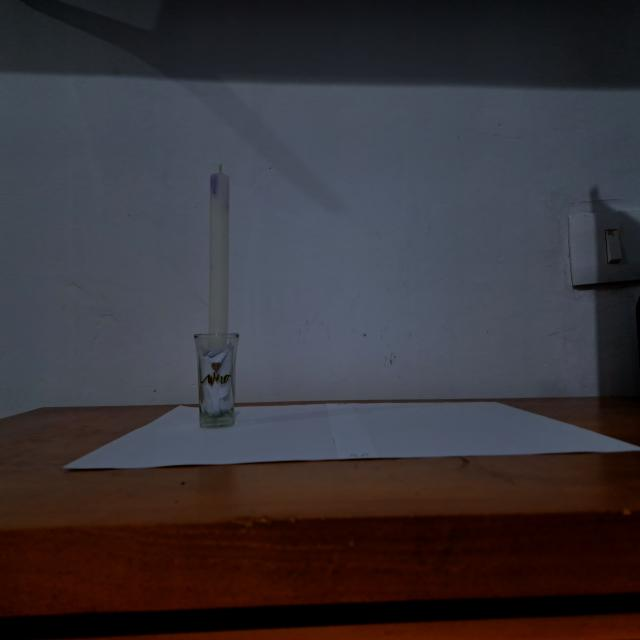candle: (190, 146, 250, 431)
